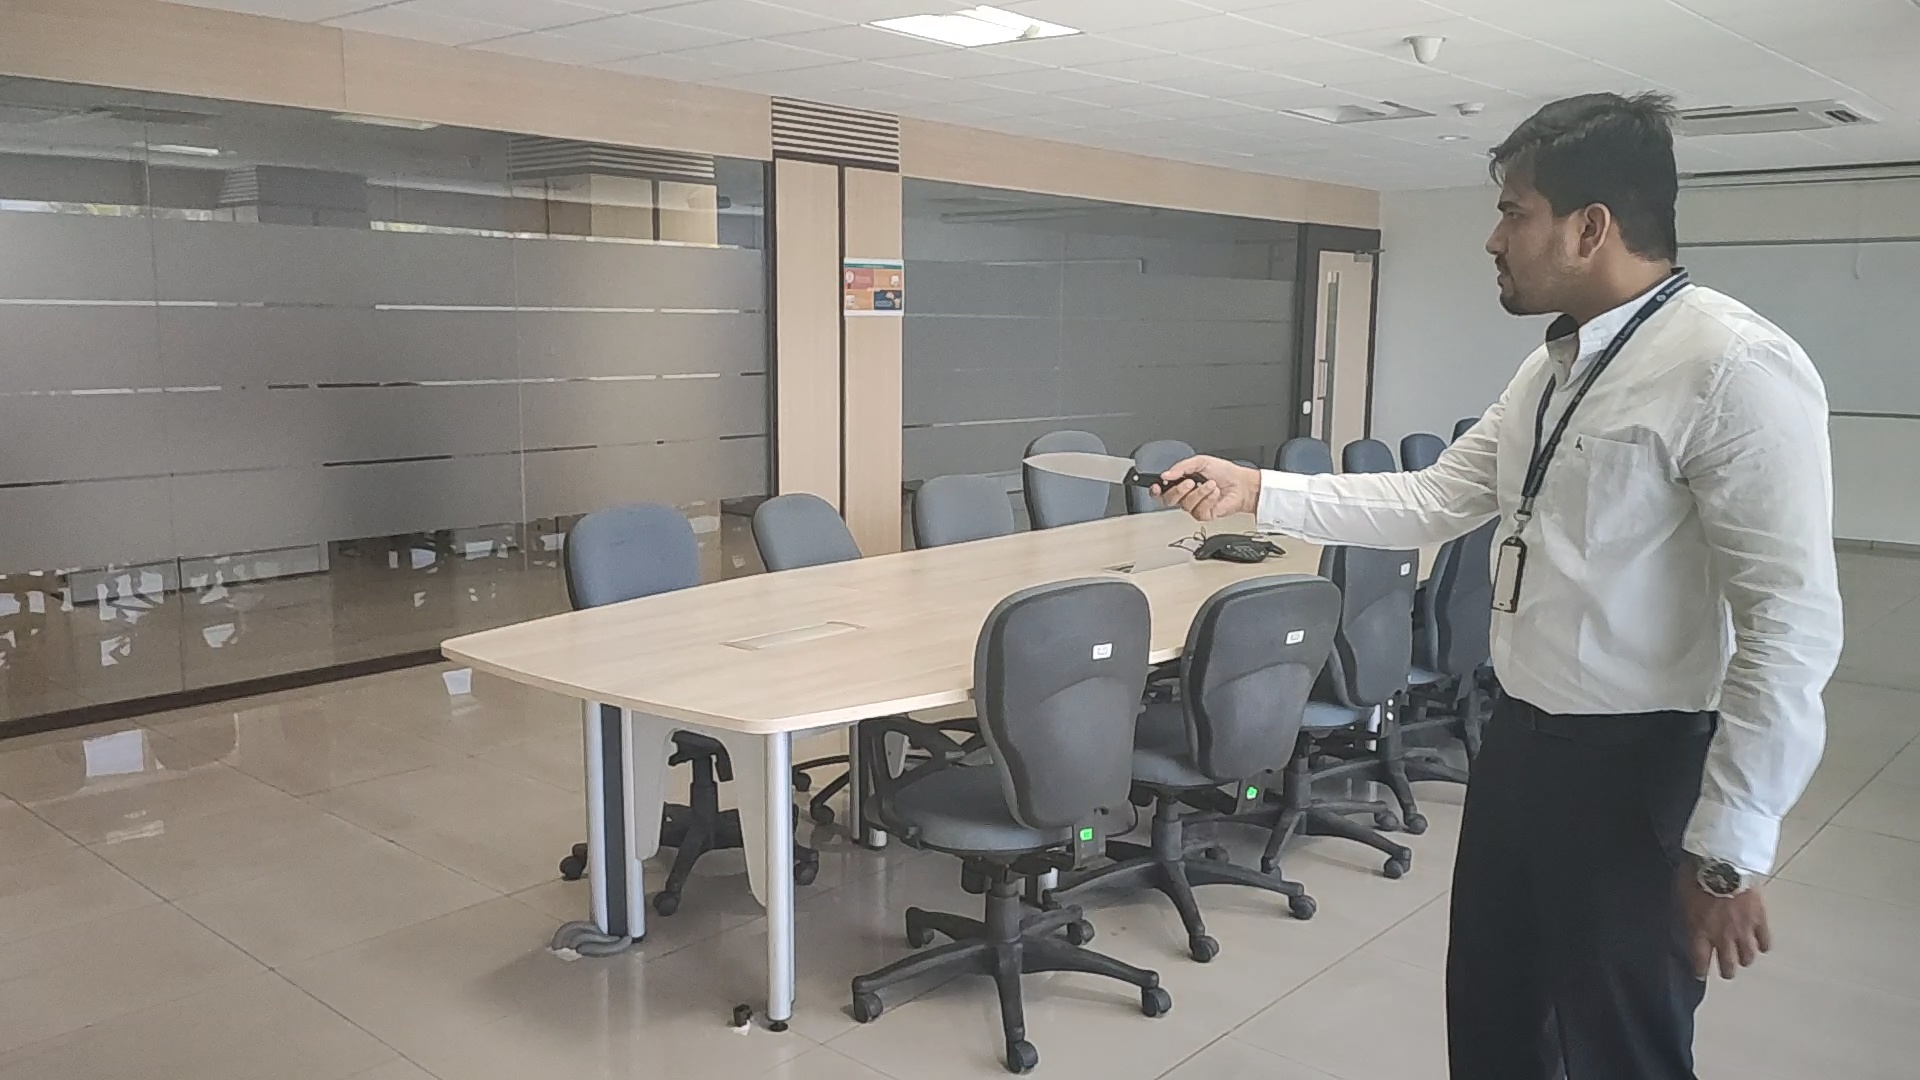knife: (1021, 448, 1167, 492)
